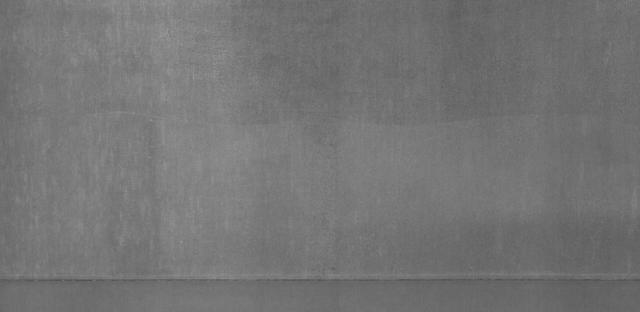welding_line: (1, 266, 640, 292)
